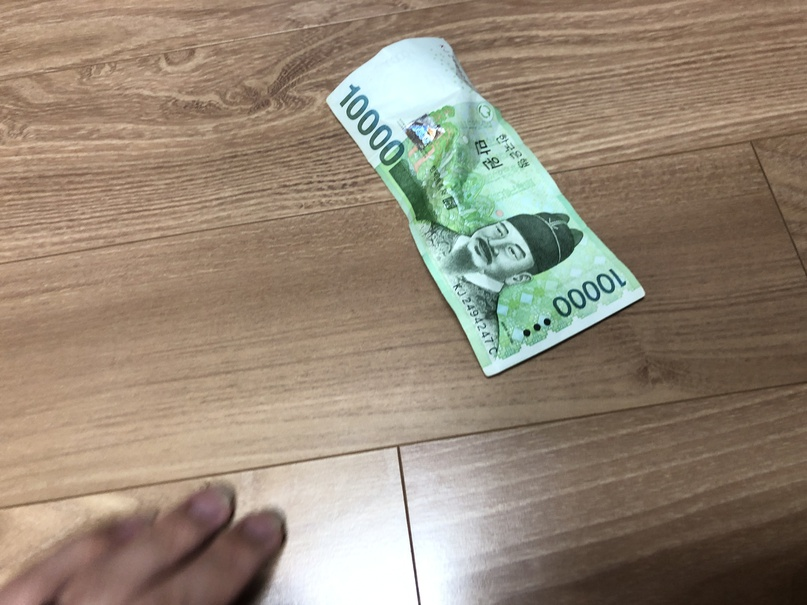10000won: (324, 38, 647, 378)
